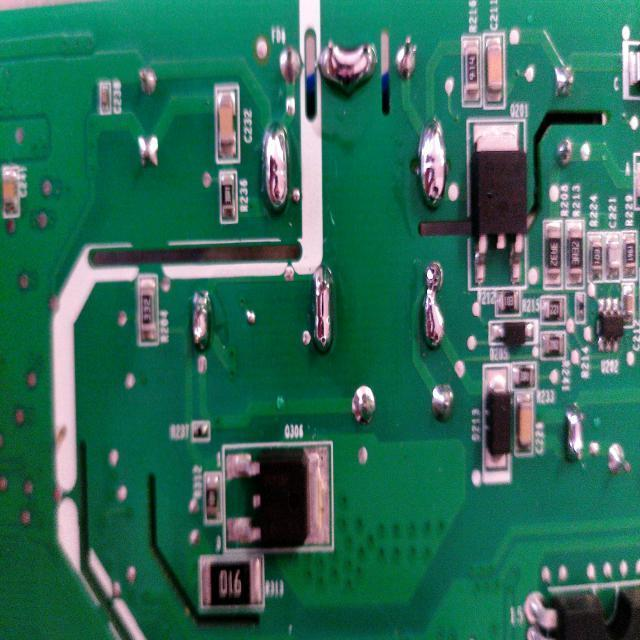Soldering shorted: (316, 36, 380, 98), (258, 117, 296, 216), (416, 111, 450, 217), (307, 256, 338, 364), (422, 252, 448, 352), (564, 394, 588, 469), (188, 292, 214, 358)
